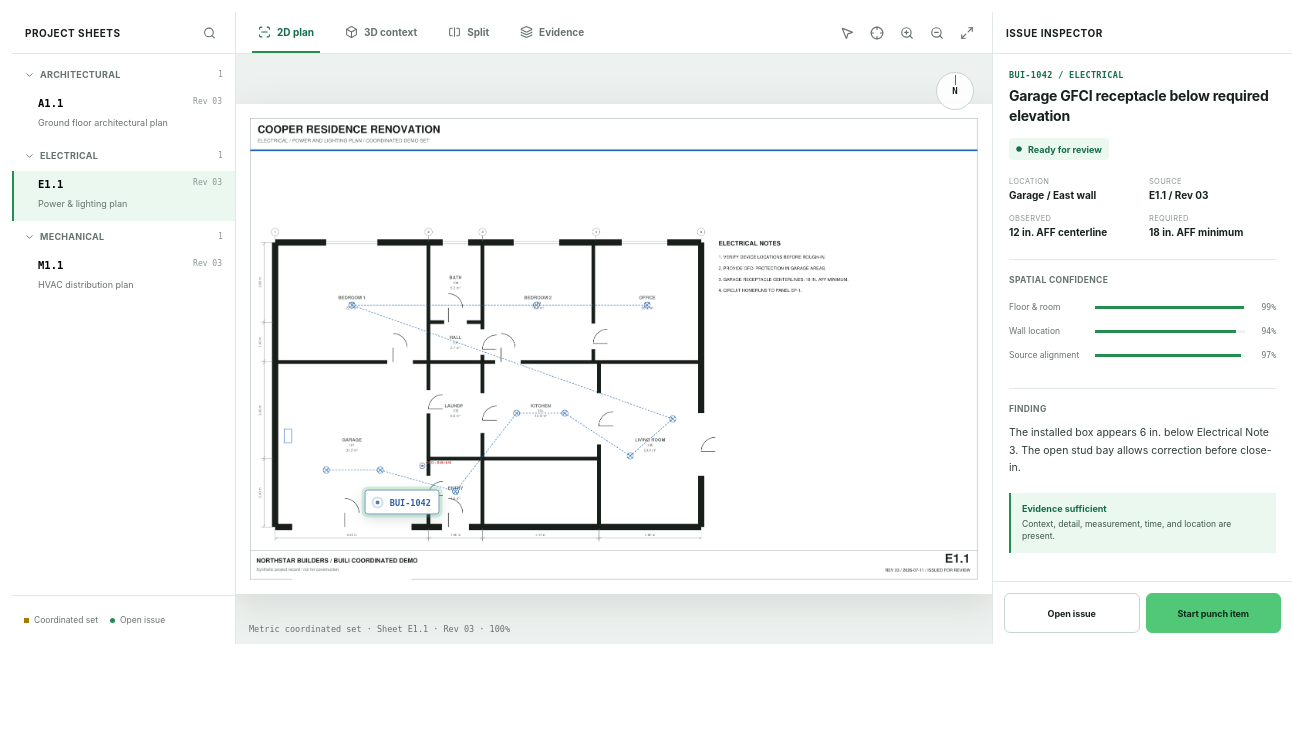
Scenario: SpatialWorkbench demo controls › updates sheet revision metadata and viewer zoom controls
Expected: the text "Metric coordinated set · Sheet E1.1 · Rev 03 · 100%" is shown, left=249, top=624, right=510, bottom=634
Click the button "A1.1 Ground floor architectural plan Rev 03": [124, 115] box left=12, top=90, right=235, bottom=140
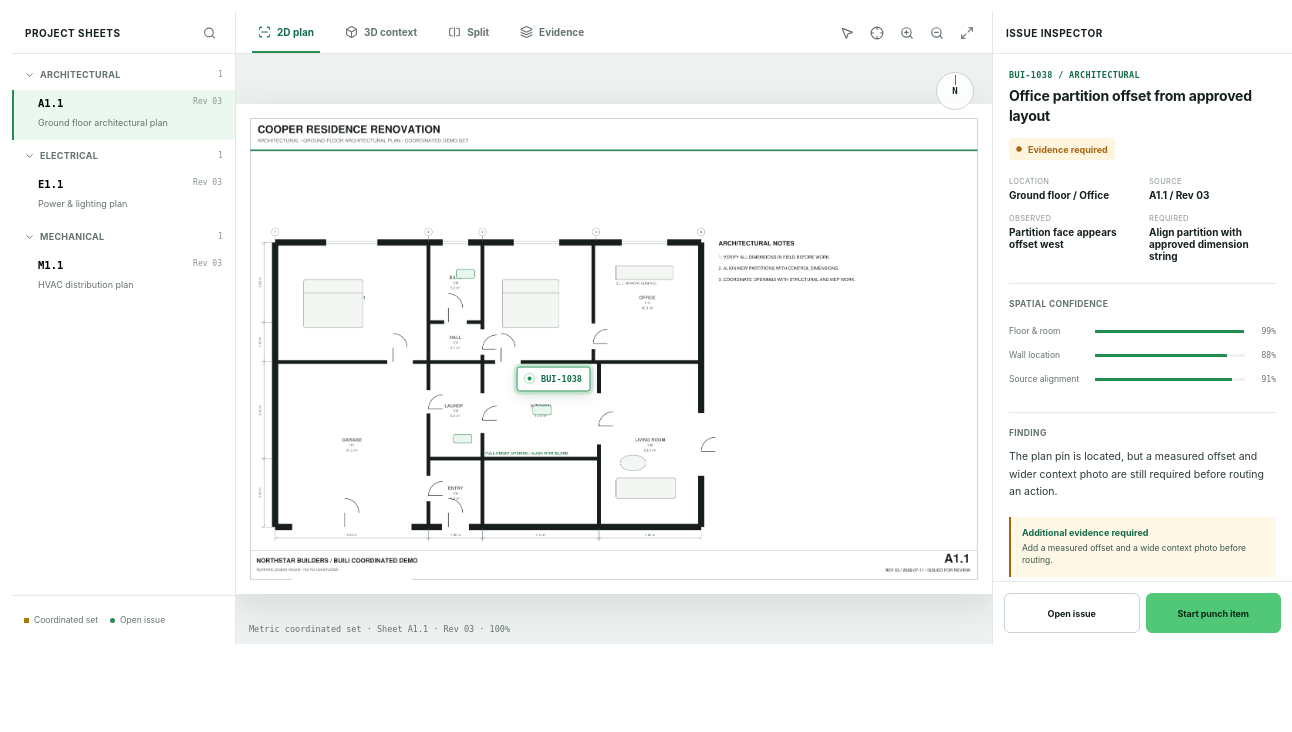
Expected: the text "Metric coordinated set · Sheet A1.1 · Rev 03 · 100%" is shown, left=249, top=624, right=510, bottom=634
Click the button named "Zoom in": [907, 32] box left=893, top=18, right=921, bottom=46
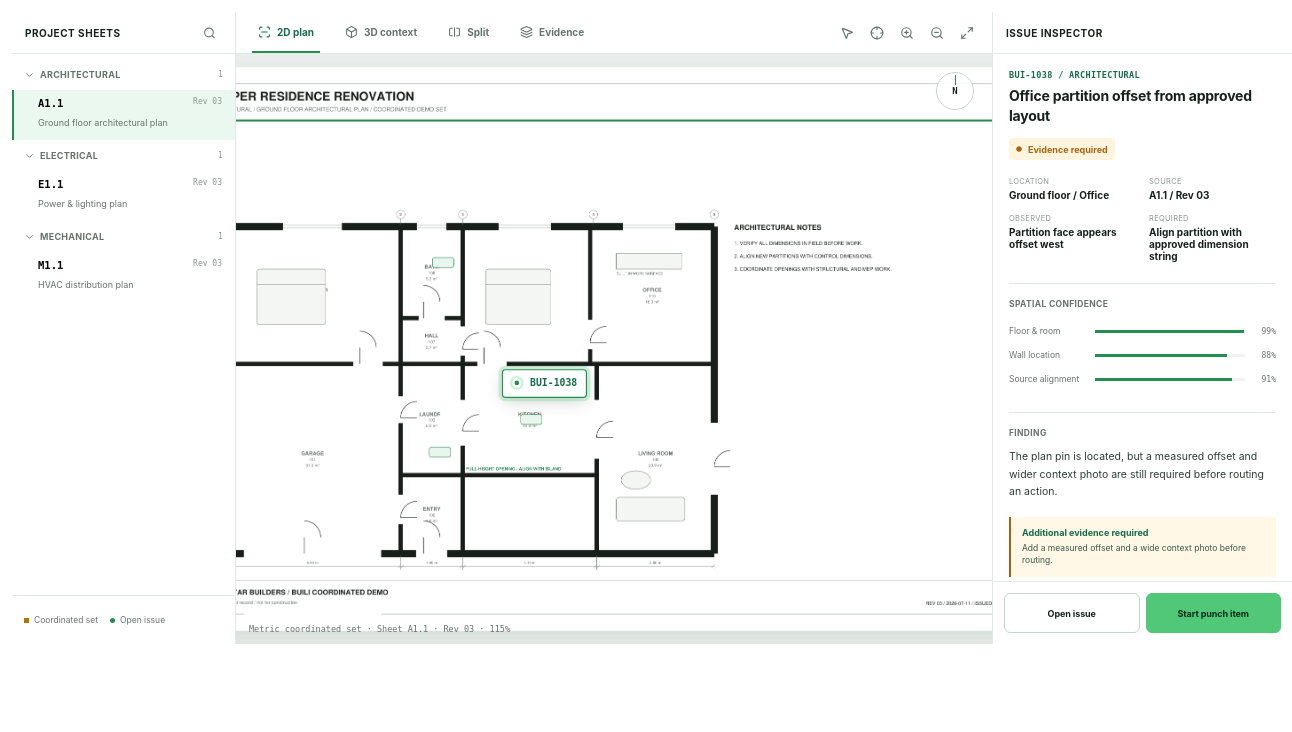
Expected: the text "Metric coordinated set · Sheet A1.1 · Rev 03 · 115%" is shown, left=249, top=624, right=510, bottom=634
Click the button named "Center view": [877, 32] box left=863, top=18, right=891, bottom=46
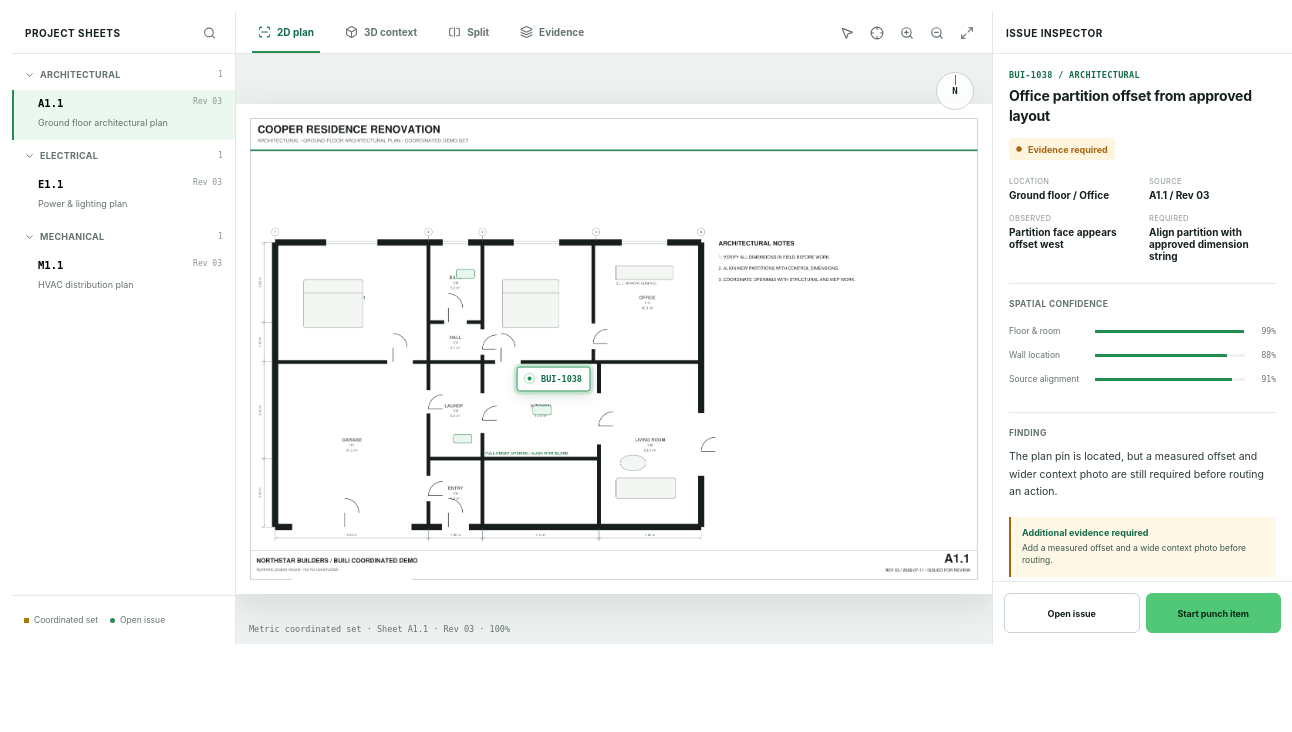
Expected: the text "Metric coordinated set · Sheet A1.1 · Rev 03 · 100%" is shown, left=249, top=624, right=510, bottom=634
